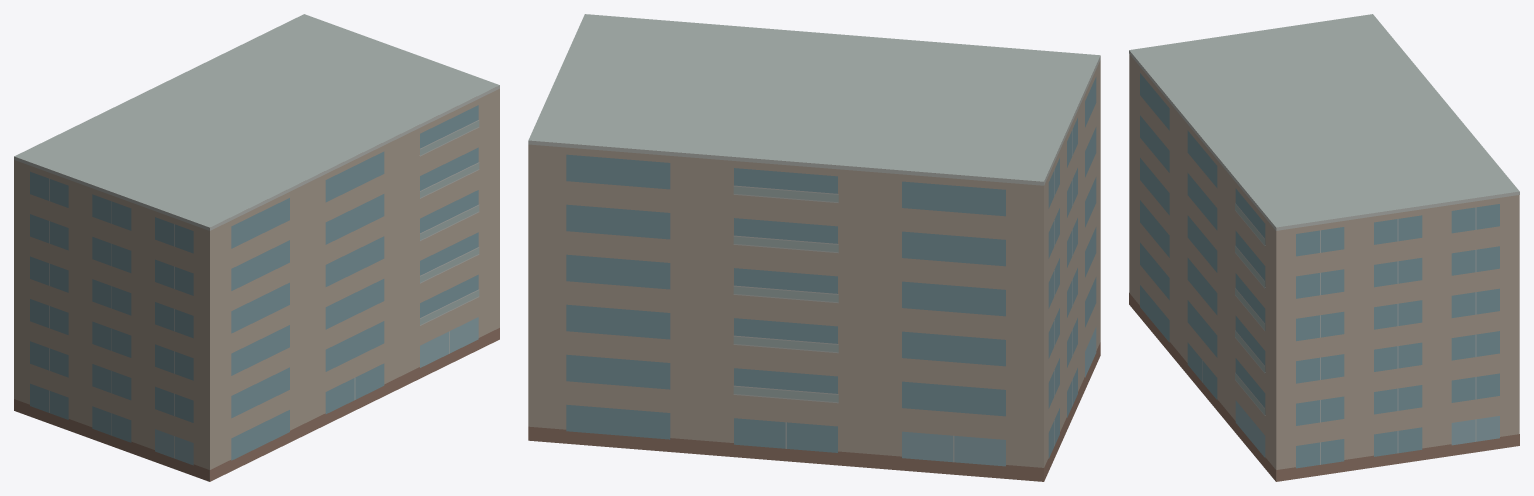
File: residential-51f58d32-6802-453b-95a5-1829132e7362.glb
3 views of the same model, side by side, from view 1: azimuth 30°, elevation 25°; view 2: azimuth 150°, elevation 25°; view 3: azimuth 270°, elevation 25° (orthographic). The views are drawn at different scales.
Parts seen in each view (by area): view 1: residential-51f58d32-6802-453b-95a5-1829132e7362.tmp; view 2: residential-51f58d32-6802-453b-95a5-1829132e7362.tmp; view 3: residential-51f58d32-6802-453b-95a5-1829132e7362.tmp.
Part boxes in pixels (x1=…): residential-51f58d32-6802-453b-95a5-1829132e7362.tmp: x1=14, y1=14, x2=499, y2=481; residential-51f58d32-6802-453b-95a5-1829132e7362.tmp: x1=528, y1=14, x2=1100, y2=481; residential-51f58d32-6802-453b-95a5-1829132e7362.tmp: x1=1129, y1=14, x2=1519, y2=481.
Size of the model in its own units: 32.95 by 18.3 by 25.48.
